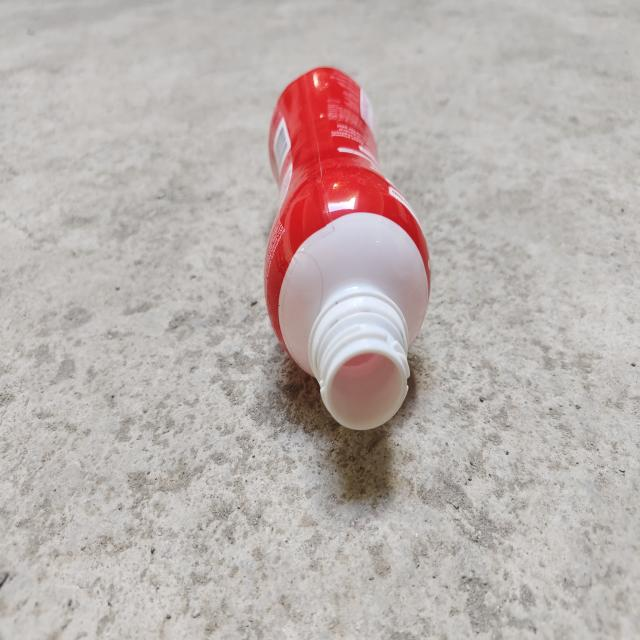Bottle: (264, 67, 430, 429)
